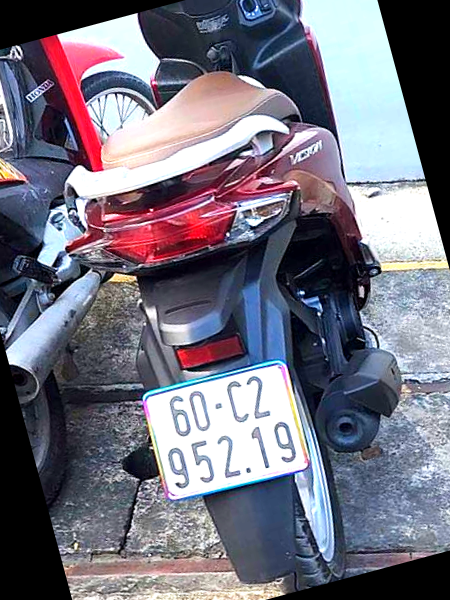number: (142, 360, 312, 500)
